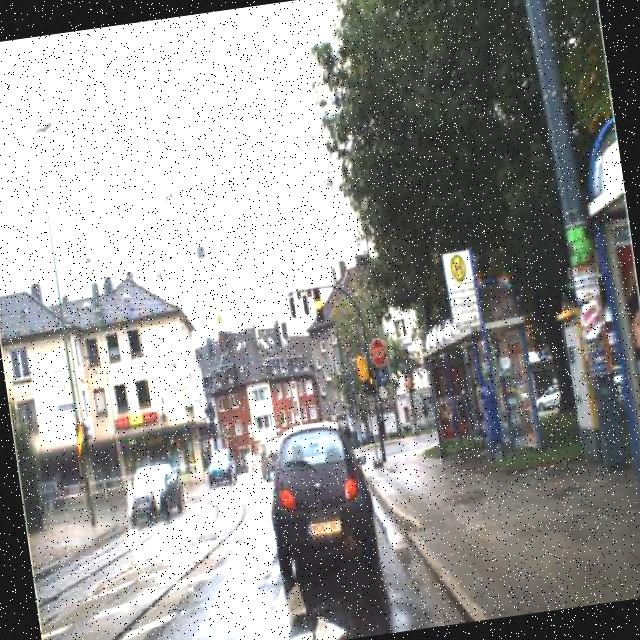Stop: (368, 335, 390, 371)
